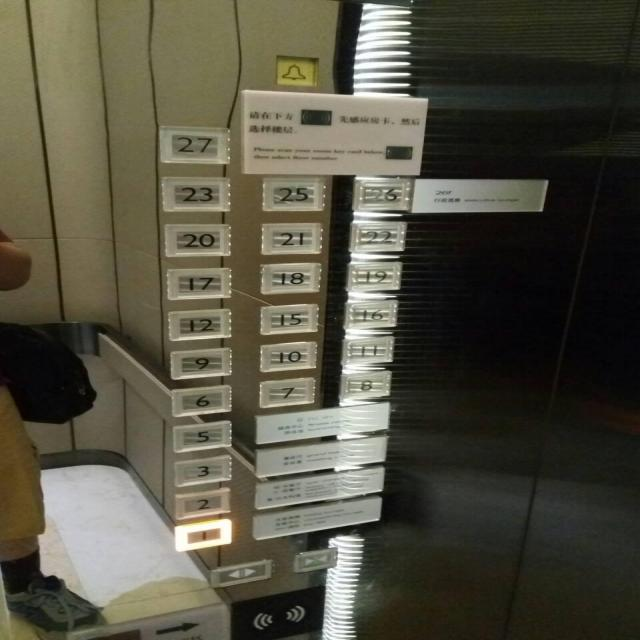1: (175, 518, 231, 550)
10: (258, 342, 316, 371)
11: (340, 336, 392, 362)
12: (170, 309, 231, 341)
15: (259, 302, 318, 336)
16: (345, 300, 398, 330)
17: (168, 268, 232, 300)
18: (260, 261, 322, 293)
19: (346, 260, 401, 292)
2: (174, 488, 232, 517)
20: (162, 224, 228, 255)
21: (260, 221, 322, 255)
22: (349, 218, 407, 253)
23: (161, 178, 228, 213)
25: (260, 180, 327, 210)
26: (354, 176, 414, 212)
27: (162, 126, 230, 161)
3: (170, 453, 233, 488)
5: (171, 421, 231, 451)
6: (170, 383, 233, 417)
7: (256, 377, 316, 407)
8: (337, 371, 395, 400)
9: (169, 348, 233, 380)
alarm: (273, 54, 321, 88)
close: (291, 546, 340, 573)
open: (210, 558, 274, 587)
